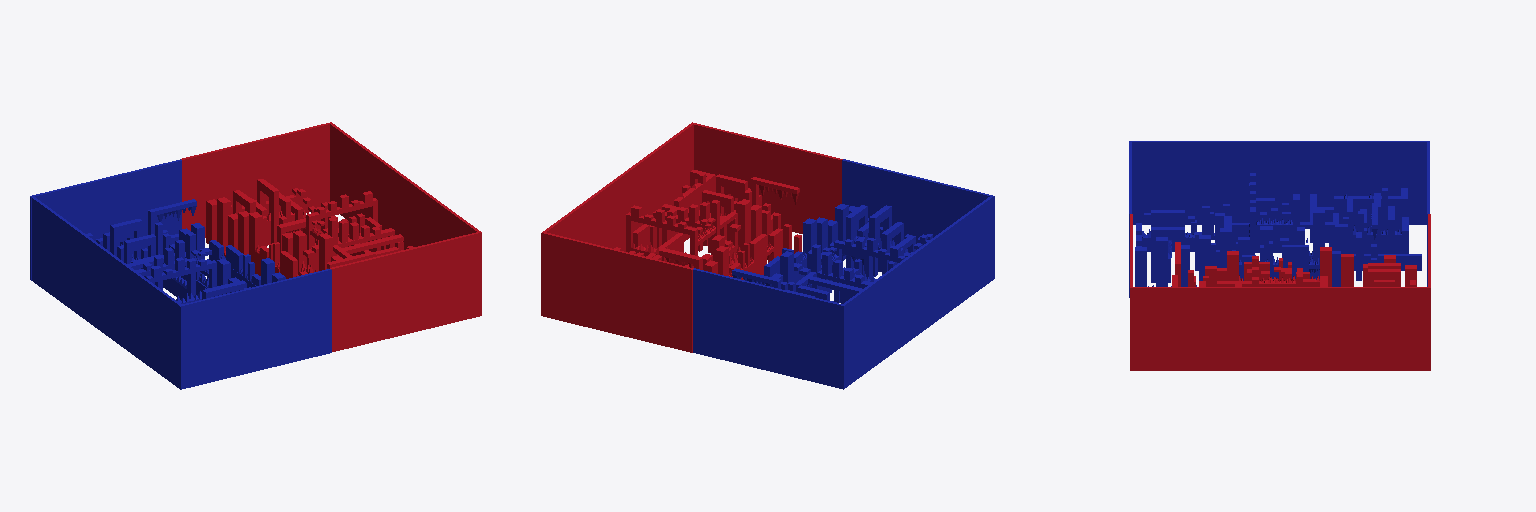
File: map2.obj
3 renders of one model, left to right at view 1: azimuth 30°, elevation 25°; view 2: azimuth 150°, elevation 25°; view 3: azimuth 270°, elevation 25°, orthographic.
Parts seen in each view (by area): view 1: obj_0; view 2: obj_0; view 3: obj_0.
Boxes of the visible parts, x1=… form: obj_0: x1=30, y1=122, x2=481, y2=389; obj_0: x1=541, y1=122, x2=994, y2=389; obj_0: x1=1129, y1=141, x2=1430, y2=370.
Bounding box in the file's own units: 230 × 60.6 × 199.